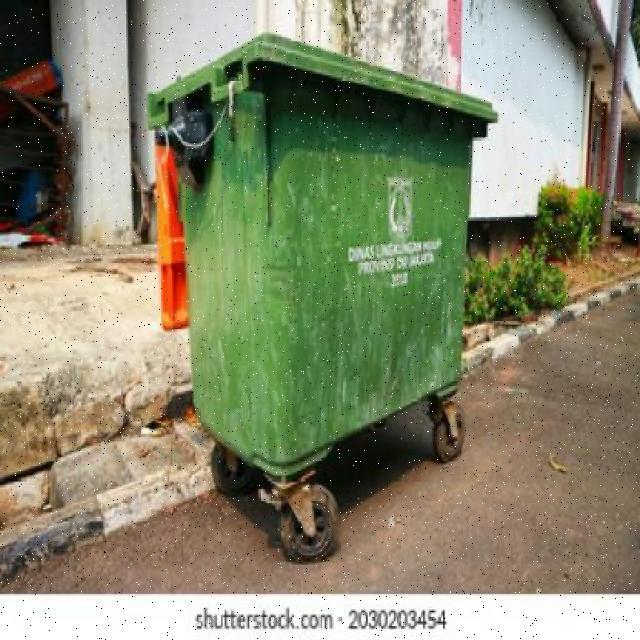garbage container: (136, 28, 512, 559)
